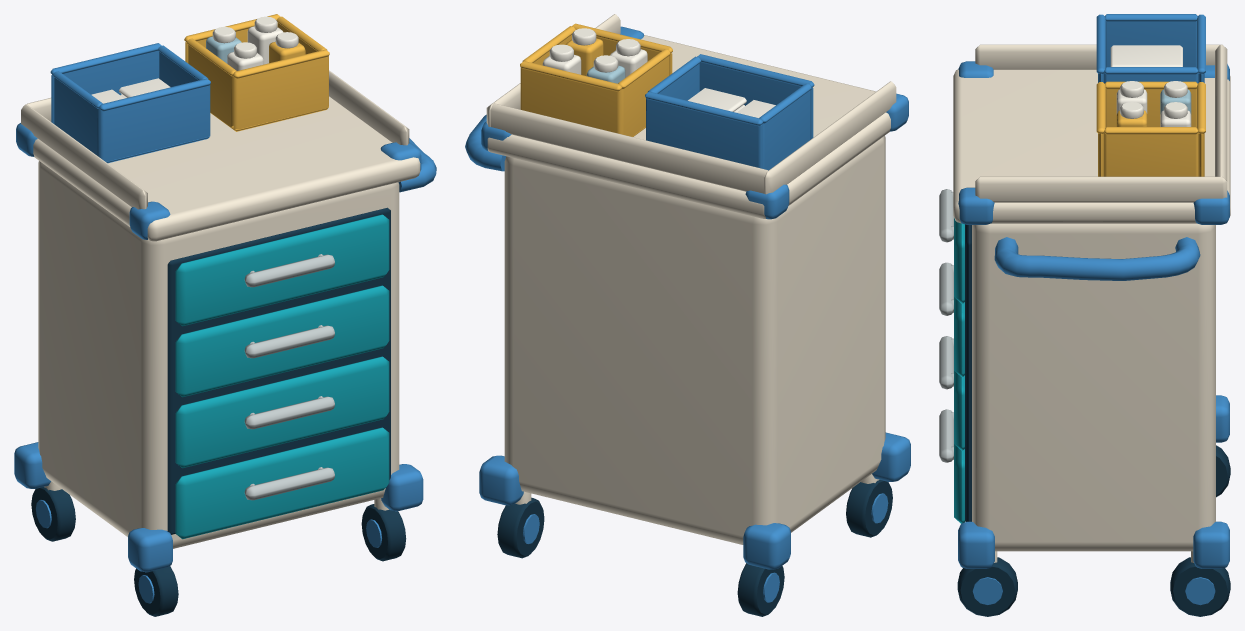
Rendered from supply_cart_standard.glb.
3 views of the same model, side by side, from view 1: azimuth 30°, elevation 25°; view 2: azimuth 150°, elevation 25°; view 3: azimuth 270°, elevation 25° (orthographic). The views are drawn at different scales.
Parts seen in each view (by area): view 1: STATIC_CRNA_Shared_Matte_Atlas.002; view 2: STATIC_CRNA_Shared_Matte_Atlas.002; view 3: STATIC_CRNA_Shared_Matte_Atlas.002.
Boxes of the visible parts, x1,y1,x2,y2 form: STATIC_CRNA_Shared_Matte_Atlas.002: (14,14,436,616); STATIC_CRNA_Shared_Matte_Atlas.002: (465,14,910,616); STATIC_CRNA_Shared_Matte_Atlas.002: (939,14,1230,616).
Bounding box in the file's own units: 0.8779 × 1.21 × 0.6465.
Materials: 1 (1 with a texture image).
